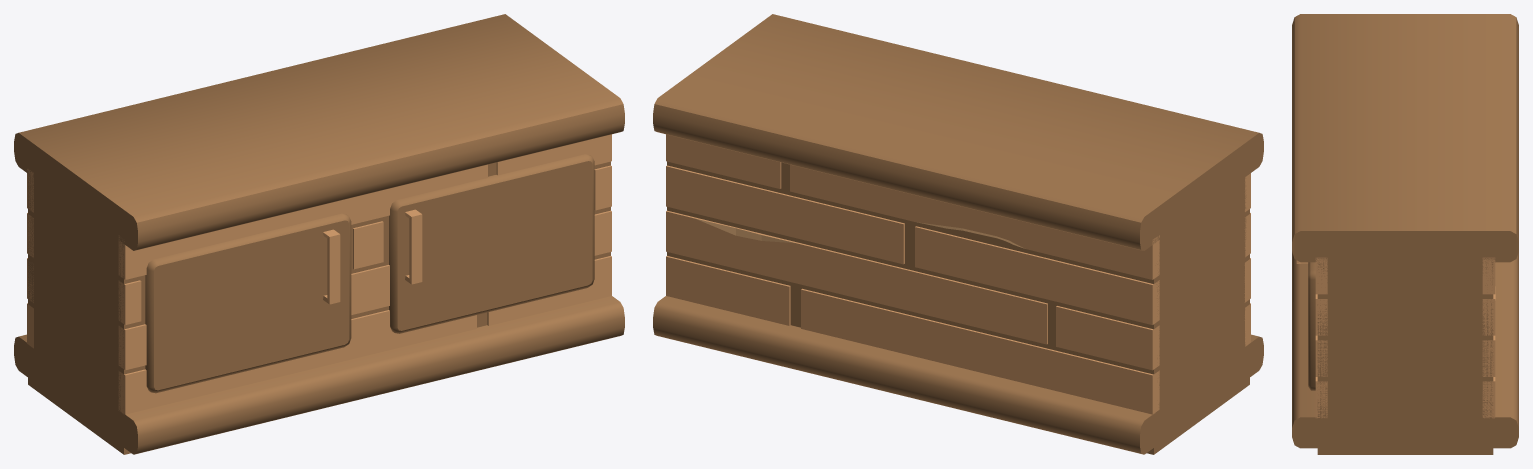
Rendered from counter_doors.glb.
3 views of the same model, side by side, from view 1: azimuth 30°, elevation 25°; view 2: azimuth 150°, elevation 25°; view 3: azimuth 270°, elevation 25° (orthographic). The views are drawn at different scales.
Visible parts, largest first — view 1: Environment_Counter_Doors; view 2: Environment_Counter_Doors; view 3: Environment_Counter_Doors.
Part boxes in pixels (x1,y1,x2,y2): Environment_Counter_Doors: (14,14,624,454); Environment_Counter_Doors: (653,14,1263,454); Environment_Counter_Doors: (1292,14,1518,454).
Bounding box in the file's own units: 4 × 1.92 × 1.77.
Materials: 1 (1 with a texture image).
